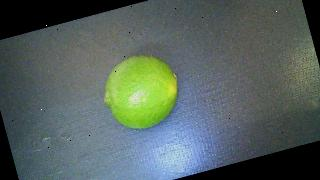EXPORTACION: (95, 47, 187, 136)
